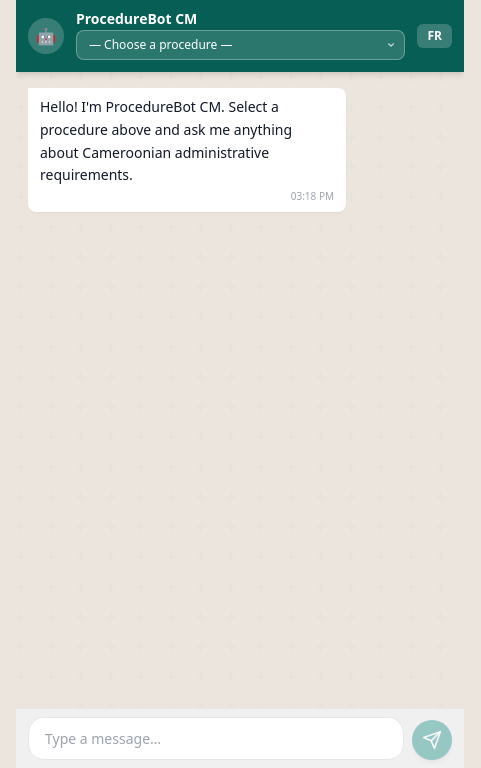
Test case: App › language toggle button label flips between FR and EN
Click the button with test id "language-toggle" at (435, 36), box [418,24,452,48]
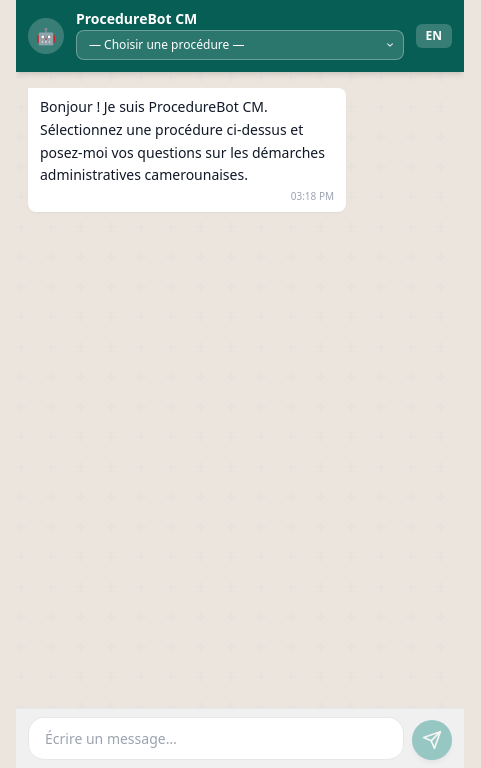
Expected: the button with test id "language-toggle" reads "EN"
Click the button with test id "language-toggle" at (434, 36), box [416,24,452,48]
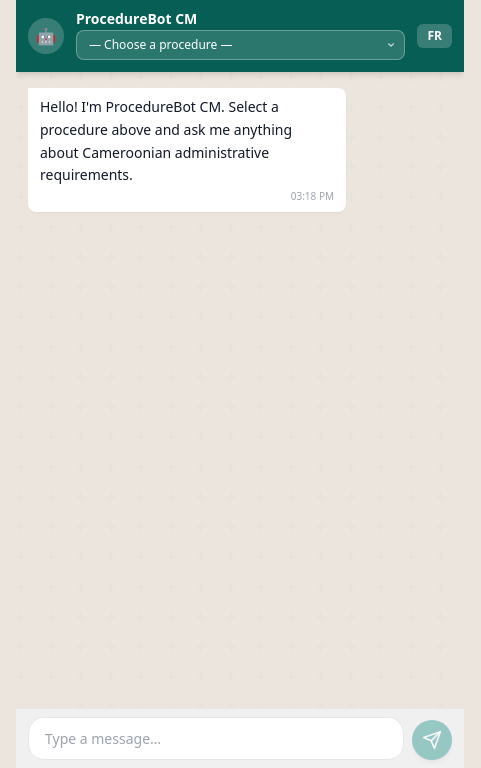
Expected: the button with test id "language-toggle" reads "FR", [418,24,452,48]
